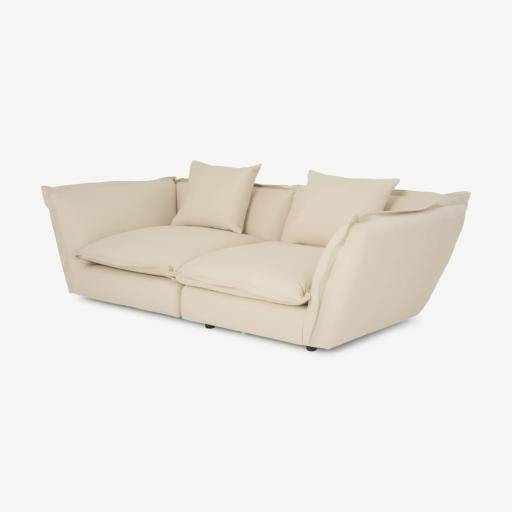back_cushion: (172, 161, 412, 246)
base: (78, 265, 305, 344)
left_arm: (303, 193, 468, 348)
right_arm: (42, 177, 176, 292)
seat_cushion: (75, 225, 324, 305)
